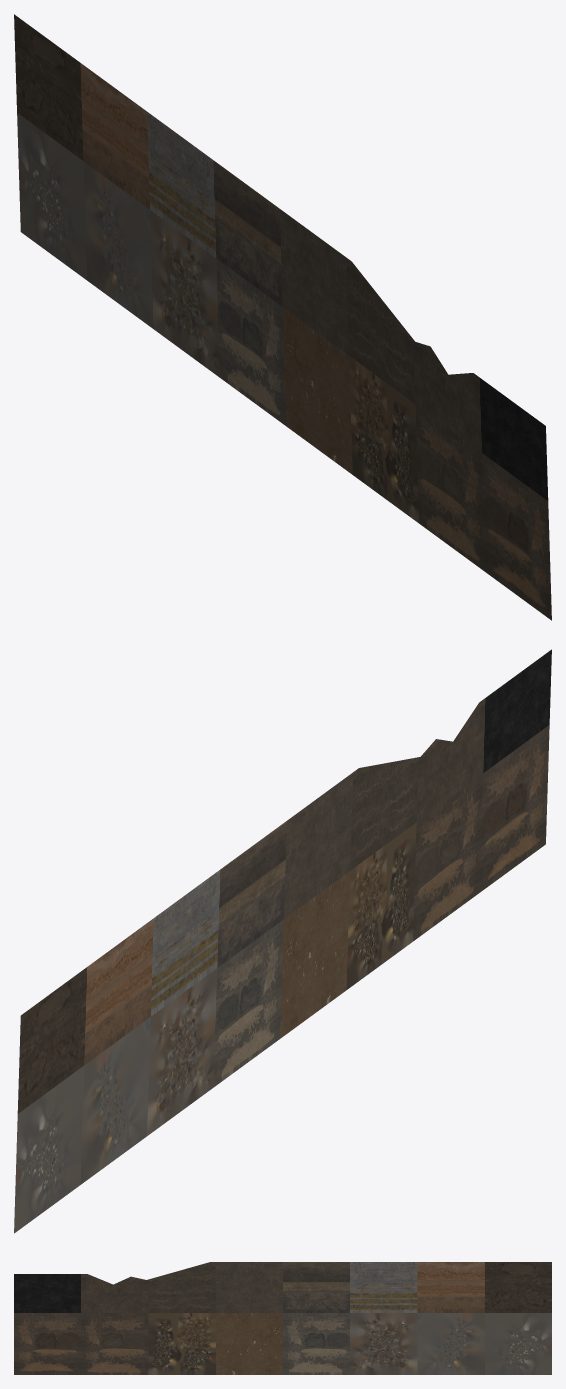
The model's file is SM_Terrain_Road_Hills_Decal_ConcreteBroken_01_07_ATLAS.fbx.
The picture shows the model from 3 angles, top to bottom: view 1: azimuth 30°, elevation 25°; view 2: azimuth 150°, elevation 25°; view 3: azimuth 270°, elevation 25°; orthographic projection. The views are drawn at different scales.
Visible parts, largest first — view 1: SM_Terrain_Road_Hills_Decal_ConcreteBroken_01_07_ATLAS_LOD0; view 2: SM_Terrain_Road_Hills_Decal_ConcreteBroken_01_07_ATLAS_LOD0; view 3: SM_Terrain_Road_Hills_Decal_ConcreteBroken_01_07_ATLAS_LOD0.
Boxes of the visible parts, x1=… form: SM_Terrain_Road_Hills_Decal_ConcreteBroken_01_07_ATLAS_LOD0: x1=14, y1=14, x2=551, y2=620; SM_Terrain_Road_Hills_Decal_ConcreteBroken_01_07_ATLAS_LOD0: x1=14, y1=649, x2=551, y2=1233; SM_Terrain_Road_Hills_Decal_ConcreteBroken_01_07_ATLAS_LOD0: x1=14, y1=1262, x2=551, y2=1374.
Size of the model in its own units: 4.17 by 565 by 129.
